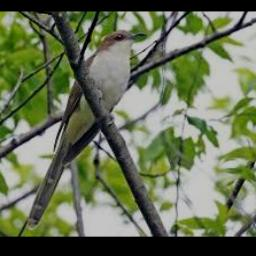Cuckoo: (28, 31, 148, 230)
